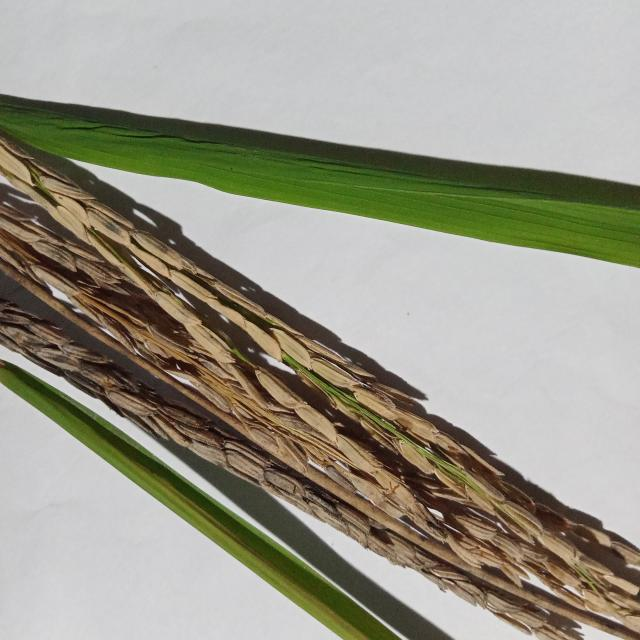Neck_Blast: (0, 141, 640, 640)
